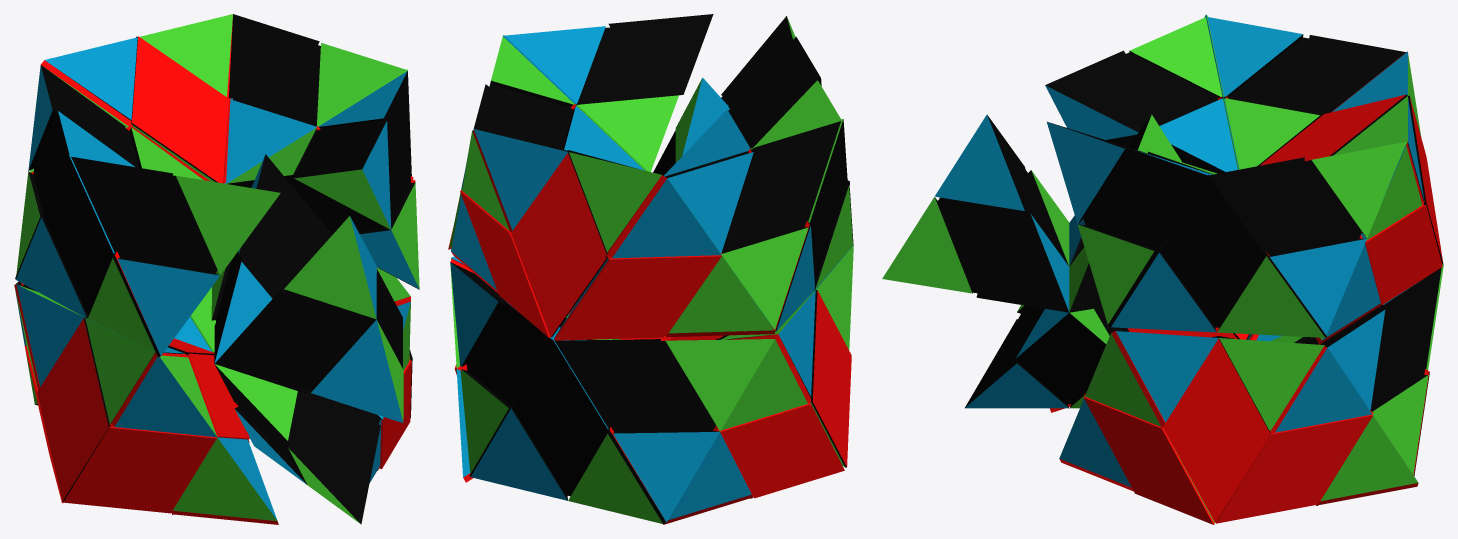
Rendered from 01_deuterium_model.fbx.
3 views of the same model, side by side, from view 1: azimuth 30°, elevation 25°; view 2: azimuth 150°, elevation 25°; view 3: azimuth 270°, elevation 25° (orthographic). The views are drawn at different scales.
Parts seen in each view (by area): view 1: Body2 (×5), Body1 (×6), Body3 (×7); view 2: Body3 (×6), Body2 (×6), Body1 (×4); view 3: Body3 (×5), Body2 (×5), Body1 (×4).
Boxes of the visible parts, bbox=[...] form: Body2 (×5): bbox=[14, 71, 419, 524]; Body1 (×6): bbox=[15, 14, 419, 524]; Body3 (×7): bbox=[14, 14, 411, 503]; Body3 (×6): bbox=[449, 16, 844, 524]; Body2 (×6): bbox=[450, 14, 851, 522]; Body1 (×4): bbox=[469, 119, 853, 523]; Body3 (×5): bbox=[882, 17, 1441, 524]; Body2 (×5): bbox=[1045, 17, 1442, 523]; Body1 (×4): bbox=[965, 51, 1443, 522].
Bounding box in the file's own units: 64.23 × 62.76 × 90.86.
